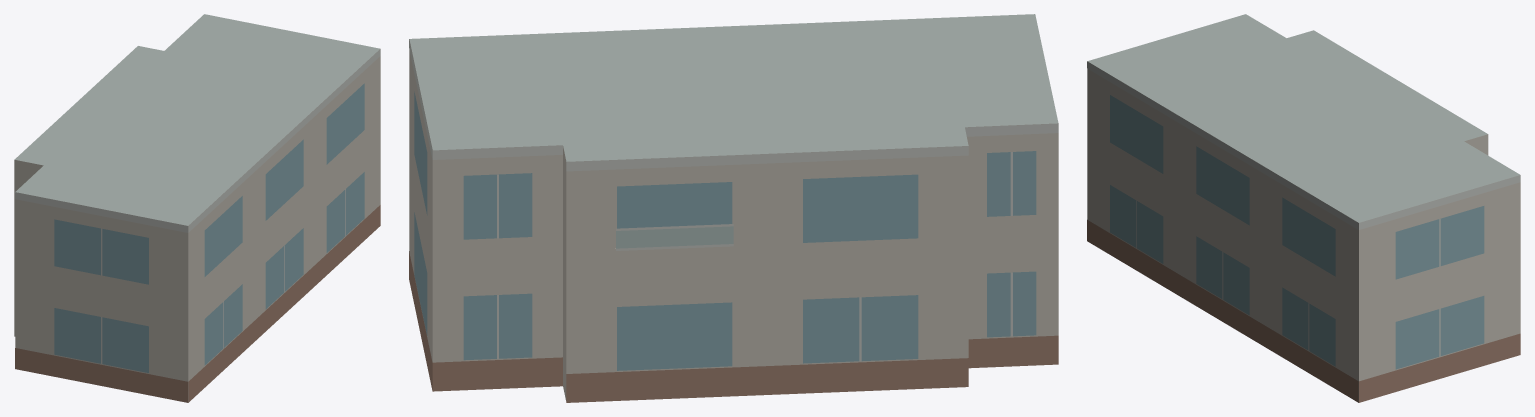
File: survey-upis-32800442.glb
The picture shows the model from 3 angles, left to right: view 1: azimuth 30°, elevation 25°; view 2: azimuth 150°, elevation 25°; view 3: azimuth 270°, elevation 25°; orthographic projection. The views are drawn at different scales.
Parts seen in each view (by area): view 1: survey-upis-32800442.tmp; view 2: survey-upis-32800442.tmp; view 3: survey-upis-32800442.tmp.
Part boxes in pixels (<box>): survey-upis-32800442.tmp: <box>14,14,380,402</box>; survey-upis-32800442.tmp: <box>409,14,1058,402</box>; survey-upis-32800442.tmp: <box>1087,14,1520,402</box>.
Size of the model in its own units: 15.2 by 6.1 by 13.33.
